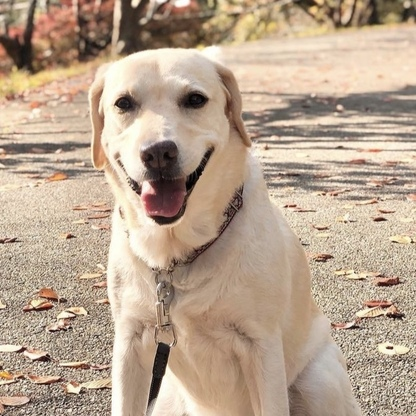labrado: (83, 43, 374, 416)
